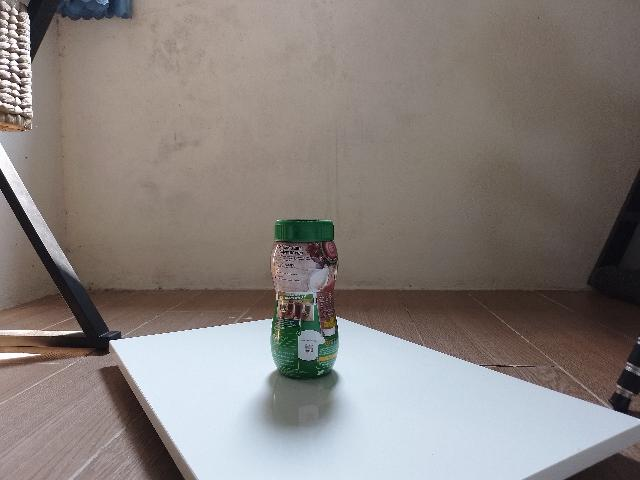milo: (270, 219, 340, 382)
